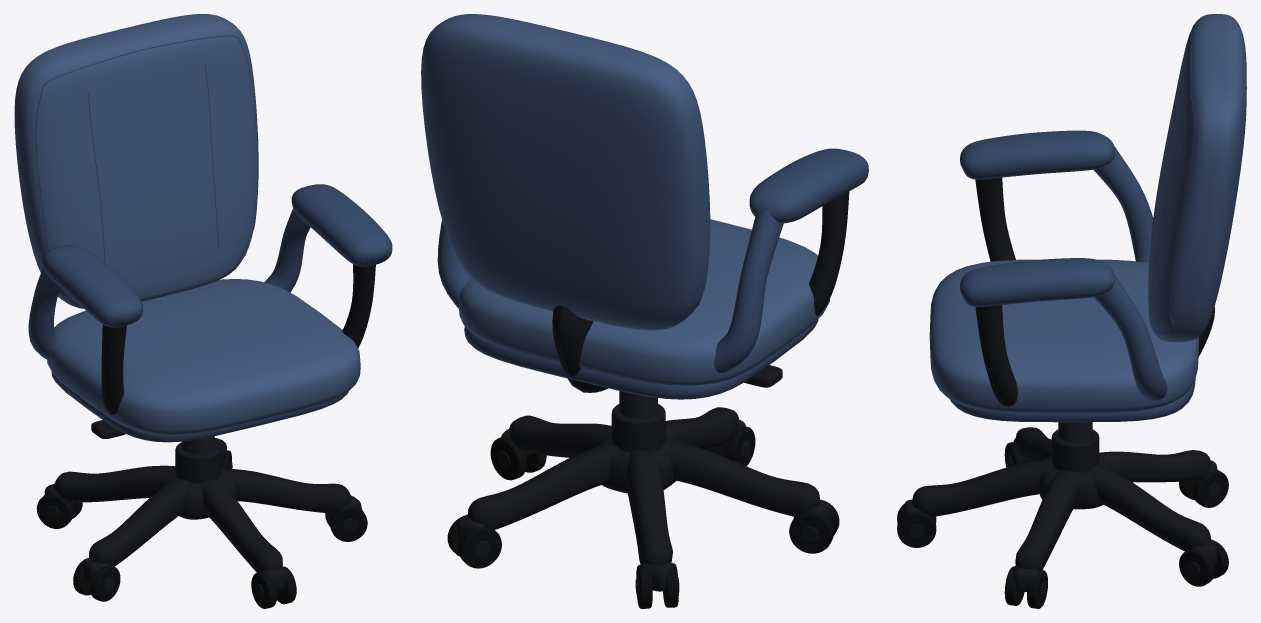
File: office_chair.glb
3 renders of one model, left to right at view 1: azimuth 30°, elevation 25°; view 2: azimuth 150°, elevation 25°; view 3: azimuth 270°, elevation 25°, orthographic. The views are drawn at different scales.
Visible parts, largest first — view 1: Continuous padded backrest_export, Thick seat cushion_export, Left curved blue armrest_export, Right curved blue armrest_export, Splayed leg 2_export, Splayed leg 5_export, Splayed leg 4_export, Splayed leg 1_export, Right rear arm support_export, Rounded seat underside shell_export, Right front arm support_export, Left rear arm support_export (+8 smaller); view 2: Continuous padded backrest_export, Thick seat cushion_export, Right curved blue armrest_export, Splayed leg 5_export, Splayed leg 3_export, Right rear arm support_export, Rounded seat underside shell_export, Splayed leg 4_export, Splayed leg 2_export, Right front arm support_export, Splayed leg 1_export, Backrest mounting spine_export (+8 smaller); view 3: Thick seat cushion_export, Continuous padded backrest_export, Right curved blue armrest_export, Left curved blue armrest_export, Splayed leg 1_export, Splayed leg 3_export, Left rear arm support_export, Splayed leg 2_export, Splayed leg 4_export, Right rear arm support_export, Left front arm support_export, Rounded seat underside shell_export (+10 smaller).
Part boxes in pixels (x1,y1,x2,y2): Continuous padded backrest_export: (14,14,258,308); Thick seat cushion_export: (47,279,360,435); Left curved blue armrest_export: (291,184,392,266); Right curved blue armrest_export: (42,245,143,327); Splayed leg 2_export: (220,468,351,513); Splayed leg 5_export: (89,477,190,566); Splayed leg 4_export: (54,465,175,502); Splayed leg 1_export: (200,479,282,572); Right rear arm support_export: (28,268,61,359); Rounded seat underside shell_export: (51,371,348,442); Right front arm support_export: (101,324,126,414); Left rear arm support_export: (264,209,310,292); Continuous padded backrest_export: (421,14,710,330); Thick seat cushion_export: (459,219,829,385); Right curved blue armrest_export: (749,148,868,223); Splayed leg 5_export: (660,439,820,516); Splayed leg 3_export: (468,442,620,529); Right rear arm support_export: (713,209,783,373); Rounded seat underside shell_export: (464,319,818,399); Splayed leg 4_export: (625,450,672,564); Splayed leg 2_export: (509,415,611,457); Right front arm support_export: (809,191,849,315); Splayed leg 1_export: (665,407,738,449); Backrest mounting spine_export: (552,305,607,392); Thick seat cushion_export: (929,259,1198,413); Continuous padded backrest_export: (1148,14,1246,342); Right curved blue armrest_export: (960,130,1115,179); Left curved blue armrest_export: (960,258,1114,306); Splayed leg 1_export: (912,458,1053,516); Splayed leg 3_export: (1089,464,1210,551); Left rear arm support_export: (1094,274,1167,400); Splayed leg 2_export: (1015,469,1079,569); Splayed leg 4_export: (1099,450,1210,482); Right rear arm support_export: (1093,146,1153,263); Left front arm support_export: (975,305,1017,406); Rounded seat underside shell_export: (949,378,1195,422).
Bounding box in the file's own units: 0.5841 × 0.8798 × 0.5705.
